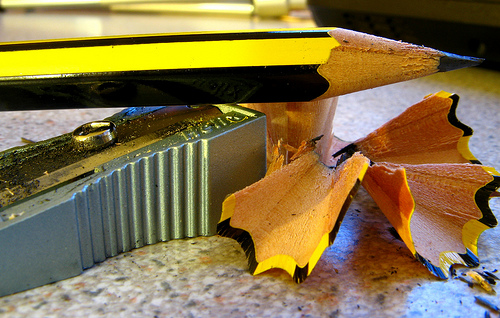pen_tip: (311, 15, 492, 101)
